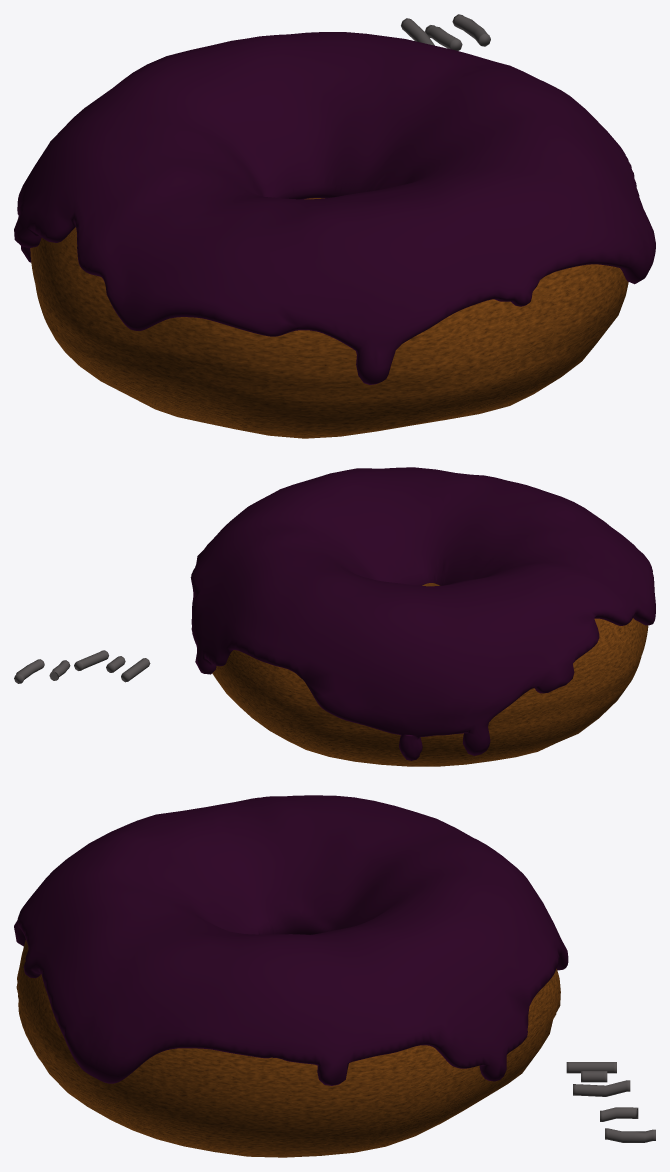
The model's file is donut.gltf.
3 renders of one model, top to bottom at view 1: azimuth 30°, elevation 25°; view 2: azimuth 150°, elevation 25°; view 3: azimuth 270°, elevation 25°, orthographic. The views are drawn at different scales.
Visible parts, largest first — view 1: icing, donut; view 2: icing, donut; view 3: icing, donut, sprinkle.001, sprinkle.004, sprinkle.
Part boxes in pixels (x1=…): icing: x1=14, y1=32, x2=655, y2=384; donut: x1=30, y1=198, x2=628, y2=438; icing: x1=190, y1=467, x2=655, y2=760; donut: x1=212, y1=583, x2=648, y2=766; icing: x1=14, y1=795, x2=568, y2=1085; donut: x1=16, y1=940, x2=560, y2=1157; sprinkle.001: x1=573, y1=1080, x2=630, y2=1096; sprinkle.004: x1=605, y1=1128, x2=655, y2=1142; sprinkle: x1=566, y1=1062, x2=616, y2=1073.
Size of what is drawn, in the model's own units: 0.1162 by 0.043 by 0.1175.
Materials: 3 (3 with a texture image).
